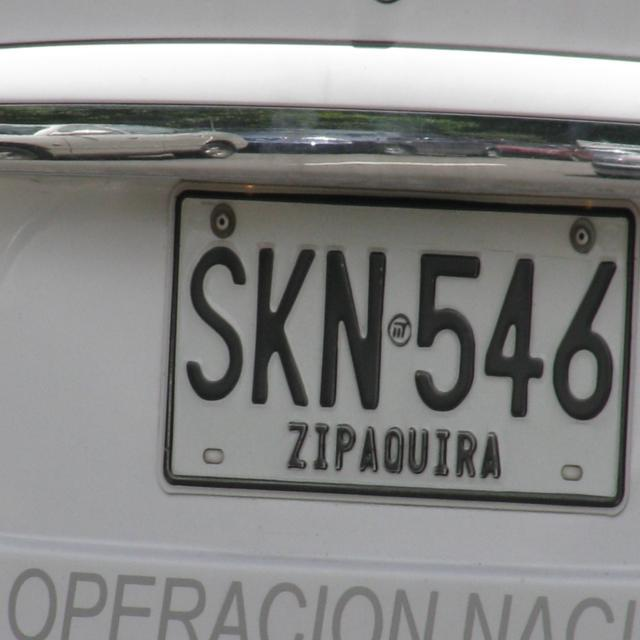placa: (152, 158, 637, 518)
